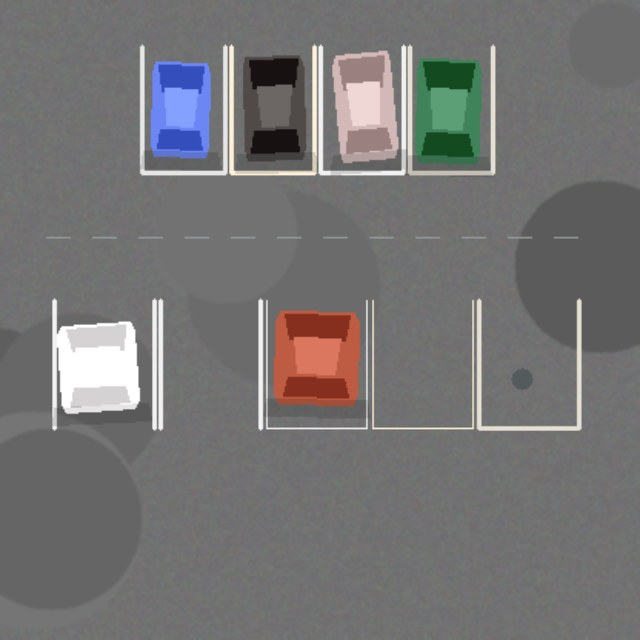space-empty: (160, 300, 260, 428), (372, 300, 472, 428), (478, 300, 578, 428)
space-occupied: (54, 300, 154, 428), (266, 300, 366, 428), (142, 46, 225, 172), (231, 46, 314, 172), (320, 46, 403, 172), (409, 46, 492, 172)
